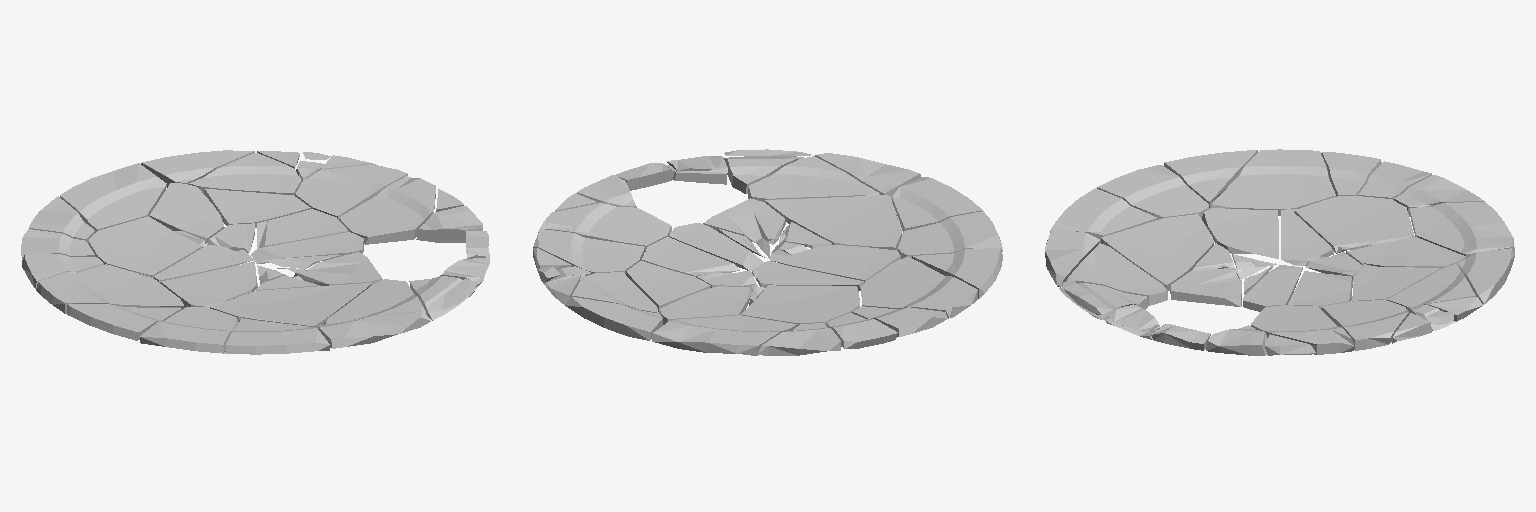
The model's file is Smashed_Plate.obj.
3 renders of one model, left to right at view 1: azimuth 30°, elevation 25°; view 2: azimuth 150°, elevation 25°; view 3: azimuth 270°, elevation 25°, orthographic.
Parts seen in each view (by area): view 1: Smashed_Plate; view 2: Smashed_Plate; view 3: Smashed_Plate.
Boxes of the visible parts, x1,y1,x2,y2 form: Smashed_Plate: [21, 150, 489, 354]; Smashed_Plate: [533, 149, 1002, 355]; Smashed_Plate: [1045, 149, 1514, 355].
Bounding box in the file's own units: 0.38 × 0.0149 × 0.38.